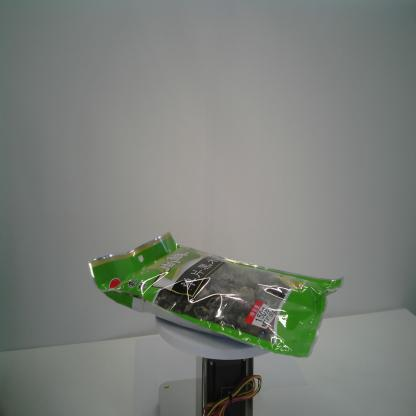Dried Food: (82, 231, 346, 361)
